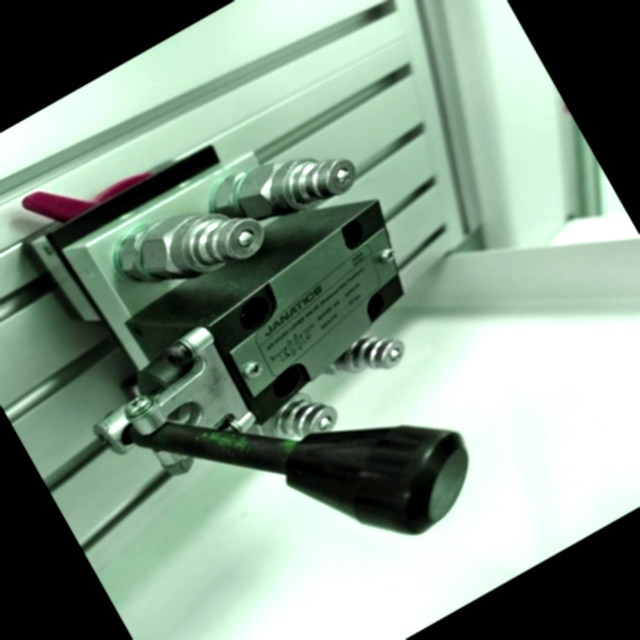4by3 hand lever valve: (0, 33, 542, 640)
